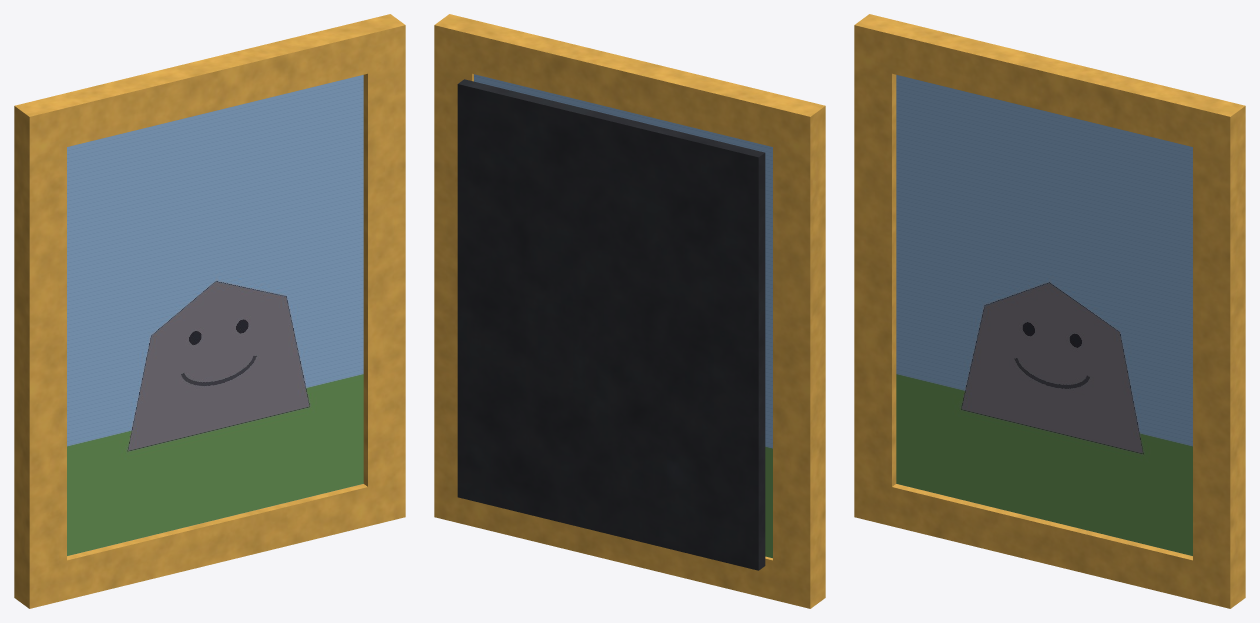
File: dun_pic_rock.glb
3 views of the same model, side by side, from view 1: azimuth 30°, elevation 25°; view 2: azimuth 150°, elevation 25°; view 3: azimuth 330°, elevation 25° (orthographic).
Visible parts, largest first — view 1: dun_pic_rock_pic_rock_0, dun_pic_rock_gold_0; view 2: dun_pic_rock_slate_0, dun_pic_rock_gold_0, dun_pic_rock_pic_rock_0; view 3: dun_pic_rock_pic_rock_0, dun_pic_rock_gold_0.
Part boxes in pixels (bbox=[...]): dun_pic_rock_pic_rock_0: bbox=[67, 75, 363, 555]; dun_pic_rock_gold_0: bbox=[14, 14, 405, 608]; dun_pic_rock_slate_0: bbox=[457, 79, 765, 570]; dun_pic_rock_gold_0: bbox=[434, 14, 825, 608]; dun_pic_rock_pic_rock_0: bbox=[474, 74, 772, 558]; dun_pic_rock_pic_rock_0: bbox=[896, 75, 1192, 555]; dun_pic_rock_gold_0: bbox=[854, 14, 1245, 608].
Size of the model in its own units: 1 by 1.25 by 0.135.
3 materials, 3 textured.
